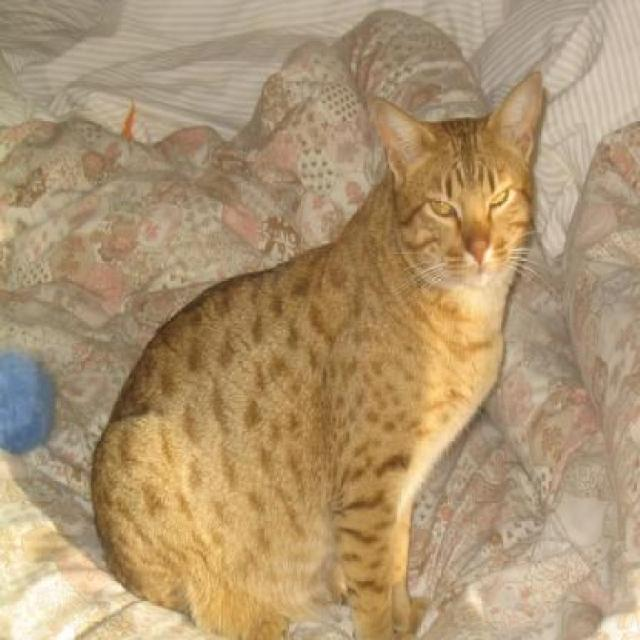cat: (90, 72, 545, 640)
